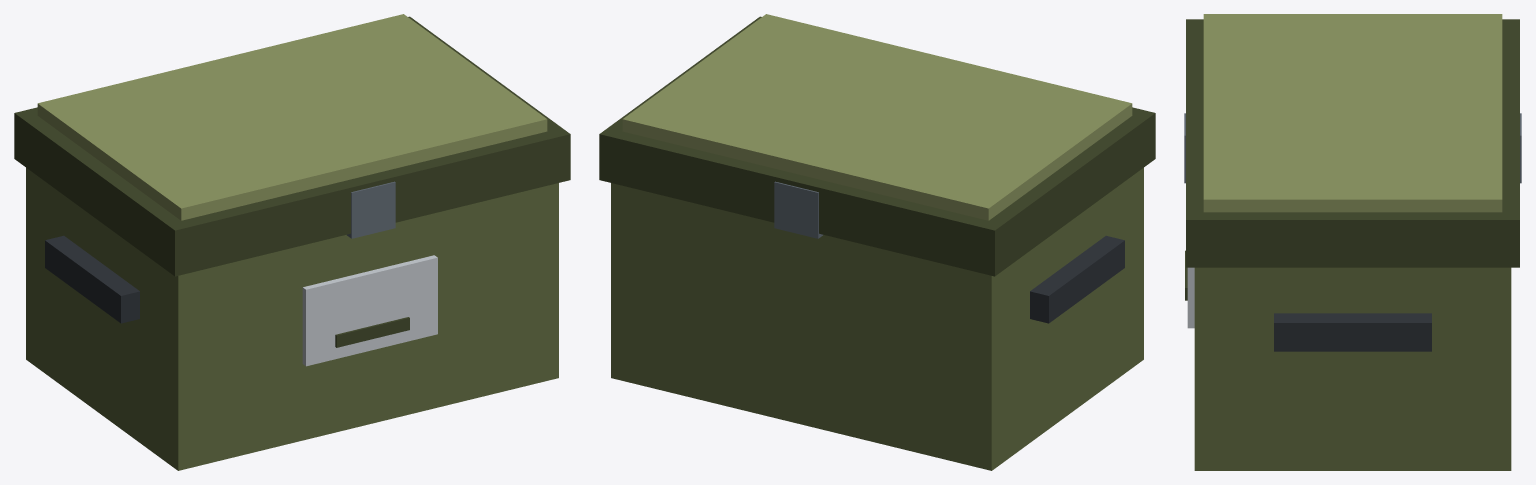
The model's file is prop_ammo_crate.fbx.
3 renders of one model, left to right at view 1: azimuth 30°, elevation 25°; view 2: azimuth 150°, elevation 25°; view 3: azimuth 270°, elevation 25°, orthographic. The views are drawn at different scales.
Parts seen in each view (by area): view 1: prop_ammo_crate; view 2: prop_ammo_crate; view 3: prop_ammo_crate.
Boxes of the visible parts, box(x1,y1,x2,y2) form: prop_ammo_crate: box(14, 14, 570, 470); prop_ammo_crate: box(599, 14, 1155, 470); prop_ammo_crate: box(1184, 14, 1521, 470).
Bounding box in the file's own units: 286 × 168 × 192.
